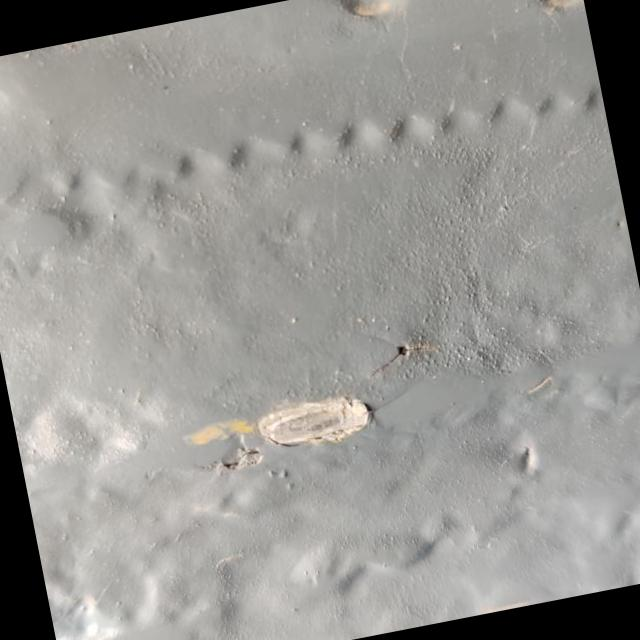Crack: (371, 341, 440, 377)
Paint-off: (189, 397, 370, 446)
